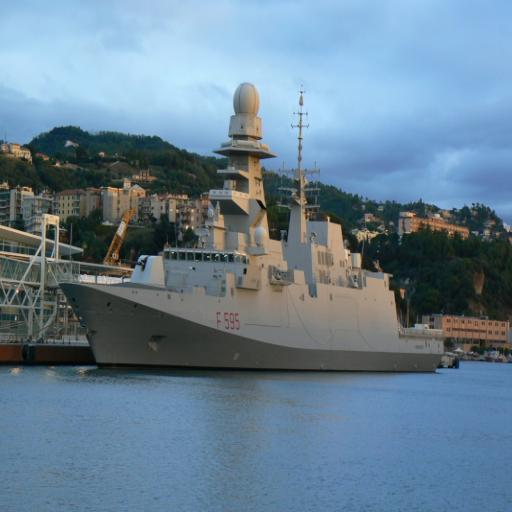Fragata: (60, 80, 443, 377)
